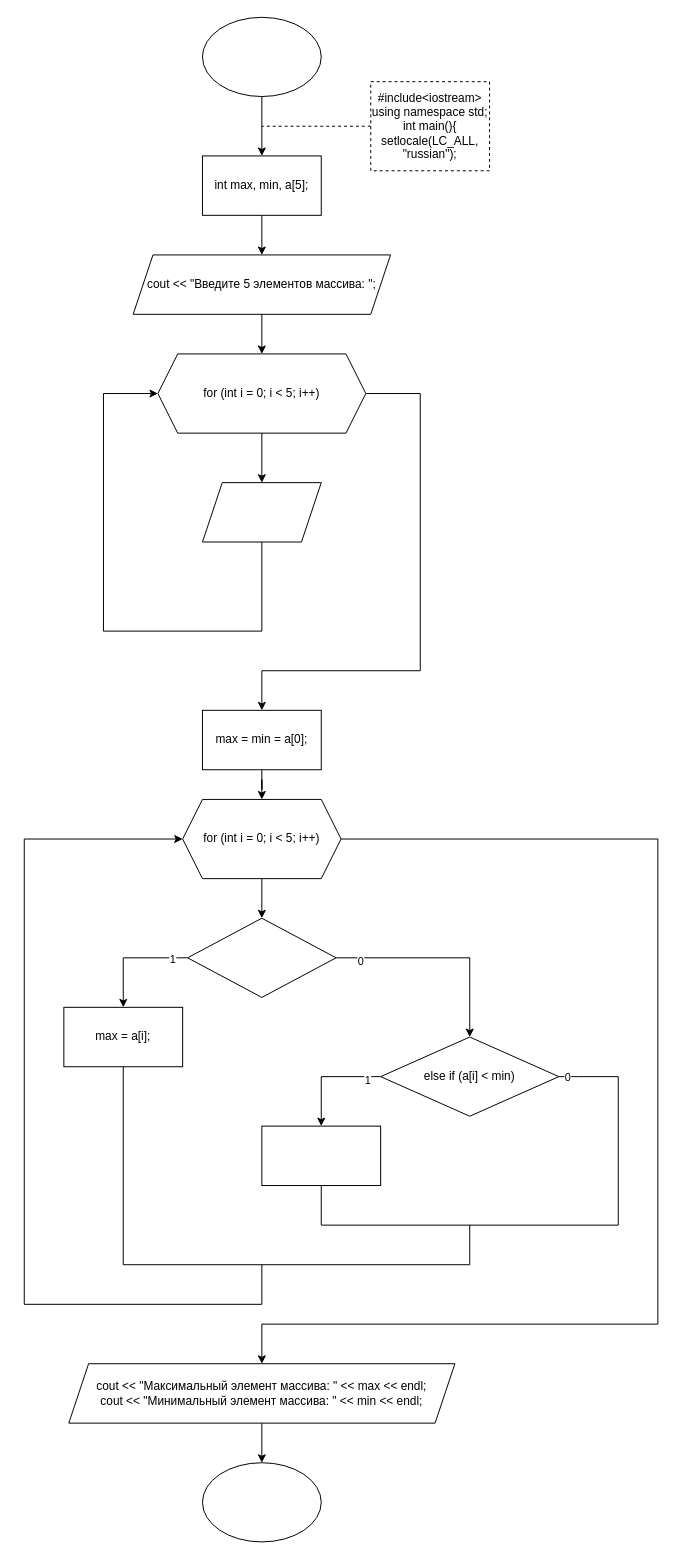
Some shapes in this 683 by 1559 pixel diagram are drawn without their labels. The centre of each missing label's shape, as x and y in pixels:
"cin >> a[i];" goes at (261,512).
"if (a[i] > max)" goes at (261,957).
"min = a[i];" goes at (321,1155).
"Конец" goes at (261,1502).
"Начало" goes at (261,56).
